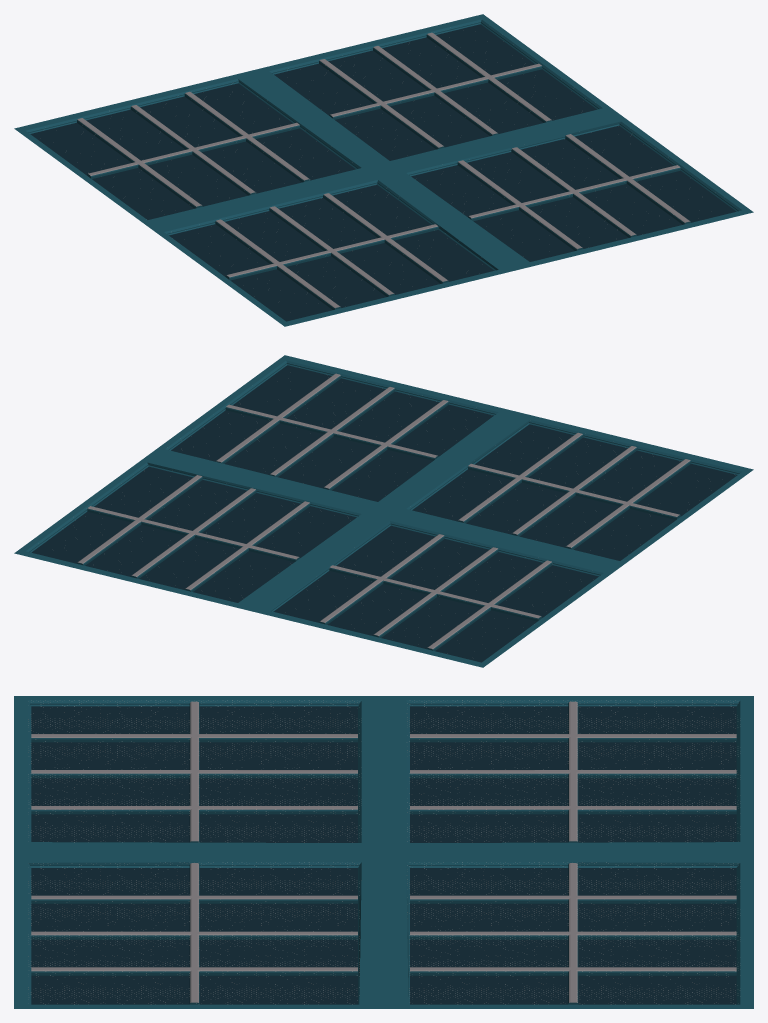
File: Level2Room1Floor.fbx
3 renders of one model, top to bottom at view 1: azimuth 30°, elevation 25°; view 2: azimuth 150°, elevation 25°; view 3: azimuth 270°, elevation 25°, orthographic. The views are drawn at different scales.
Visible parts, largest first — view 1: Level2_Room1Floor; view 2: Level2_Room1Floor; view 3: Level2_Room1Floor.
Boxes of the visible parts, x1=… form: Level2_Room1Floor: x1=14, y1=14, x2=753, y2=326; Level2_Room1Floor: x1=14, y1=355, x2=753, y2=667; Level2_Room1Floor: x1=14, y1=696, x2=753, y2=1008.
Size of the model in its own units: 15 by 0.1054 by 15.
